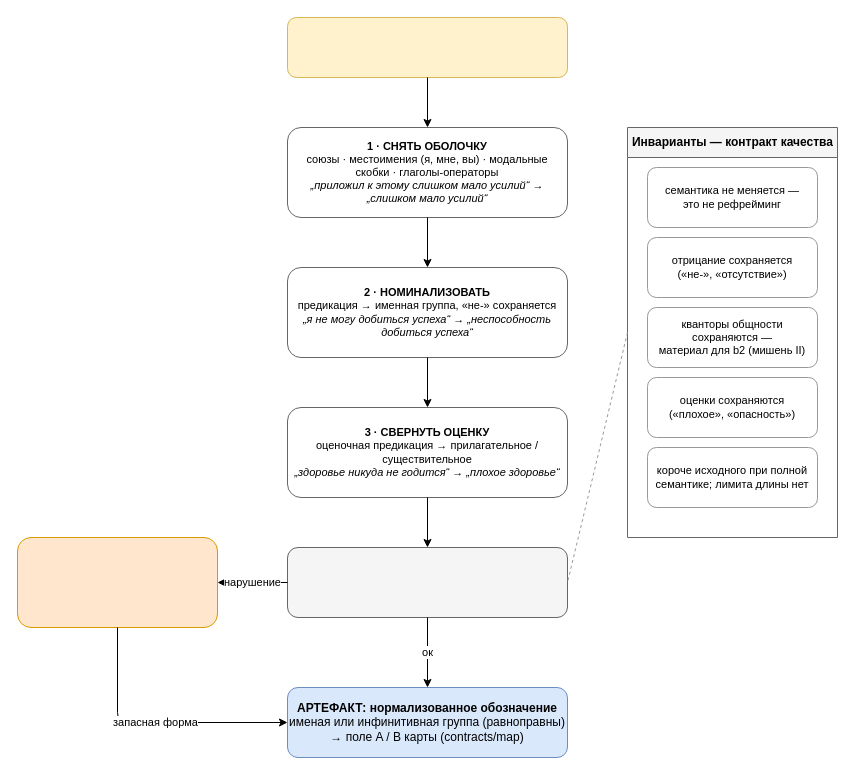
Some shapes in this 855 by 775 pixel diagram are drawn without their labels. The shapes that lost their labels are listed below. From the top down, each one's centre as x and y in pixels, then its label:
the point at 427,47: звено — сырой текст после разреза (шаг 4 разбора) или фрагмент-обобщение
the point at 117,582: ОТКАТ запасная форма (инфинитив) или исходное звено как есть
the point at 427,582: 4 · ПРОВЕРКА ИНВАРИАНТОВ смысл · отрицание · квантор · оценка — всё на месте?
